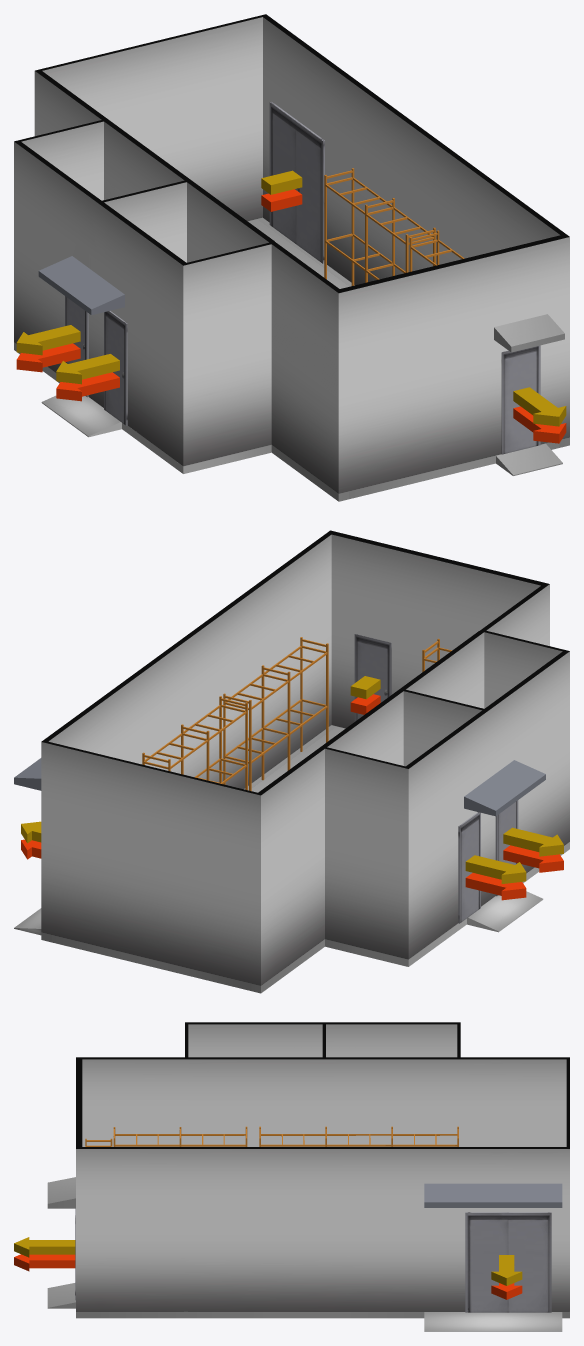
Rendered from soulbrain_T8-waste_2.glb.
The picture shows the model from 3 angles, top to bottom: view 1: azimuth 30°, elevation 25°; view 2: azimuth 150°, elevation 25°; view 3: azimuth 270°, elevation 25°; orthographic projection. The views are drawn at different scales.
Parts seen in each view (by area): view 1: Box032, T8-liquidwaste, Box033, arrow_Y_3_T8-liquidwaste-1F, arrow_Y_2_T8-liquidwaste-1F, arrow_Y_1_T8-liquidwaste-1F, arrow_R_3_T8-liquidwaste-1F, arrow_R_2_T8-liquidwaste-1F, arrow_R_1_T8-liquidwaste-1F, arrow_Y_4_T8-liquidwaste-1F, arrow_R_4_T8-liquidwaste-1F; view 2: Box032, T8-liquidwaste, Box033, arrow_Y_3_T8-liquidwaste-1F, arrow_Y_2_T8-liquidwaste-1F, arrow_R_3_T8-liquidwaste-1F, arrow_R_2_T8-liquidwaste-1F; view 3: Box032, T8-liquidwaste, Box033, arrow_Y_1_T8-liquidwaste-1F, arrow_R_1_T8-liquidwaste-1F, arrow_Y_4_T8-liquidwaste-1F, arrow_R_4_T8-liquidwaste-1F.
Boxes of the visible parts, x1,y1,x2,y2 form: Box032: (14, 14, 569, 493); T8-liquidwaste: (14, 168, 569, 501); Box033: (65, 102, 540, 454); arrow_Y_3_T8-liquidwaste-1F: (16, 325, 80, 355); arrow_Y_2_T8-liquidwaste-1F: (56, 354, 119, 384); arrow_Y_1_T8-liquidwaste-1F: (513, 387, 566, 426); arrow_R_3_T8-liquidwaste-1F: (16, 343, 80, 372); arrow_R_2_T8-liquidwaste-1F: (56, 372, 119, 401); arrow_R_1_T8-liquidwaste-1F: (513, 406, 566, 443); arrow_Y_4_T8-liquidwaste-1F: (261, 170, 302, 194); arrow_R_4_T8-liquidwaste-1F: (261, 189, 302, 211); Box032: (41, 530, 569, 985); T8-liquidwaste: (14, 637, 569, 993); Box033: (354, 634, 518, 923); arrow_Y_3_T8-liquidwaste-1F: (465, 855, 526, 883); arrow_Y_2_T8-liquidwaste-1F: (503, 827, 563, 856); arrow_R_3_T8-liquidwaste-1F: (465, 873, 526, 900); arrow_R_2_T8-liquidwaste-1F: (503, 845, 563, 872); Box032: (76, 1022, 569, 1311); T8-liquidwaste: (47, 1126, 569, 1331); Box033: (75, 1208, 551, 1312); arrow_Y_1_T8-liquidwaste-1F: (14, 1237, 75, 1257); arrow_R_1_T8-liquidwaste-1F: (14, 1254, 75, 1271); arrow_Y_4_T8-liquidwaste-1F: (491, 1255, 522, 1285); arrow_R_4_T8-liquidwaste-1F: (491, 1283, 522, 1299).
Bounding box in the file's own units: 18.94 × 8.57 × 25.49.
Materials: 9 (6 with a texture image).
